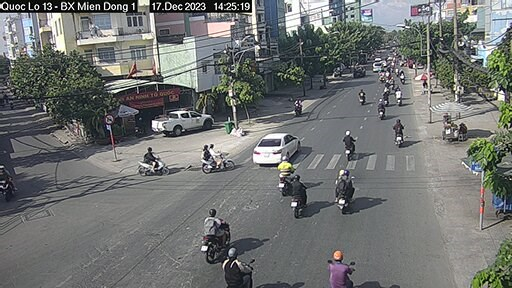car: (148, 110, 218, 138), (252, 129, 304, 163)
motorbike: (198, 212, 229, 259), (137, 147, 173, 177), (195, 148, 235, 173), (290, 177, 312, 218), (335, 175, 355, 208), (341, 130, 359, 163), (388, 119, 405, 146)
